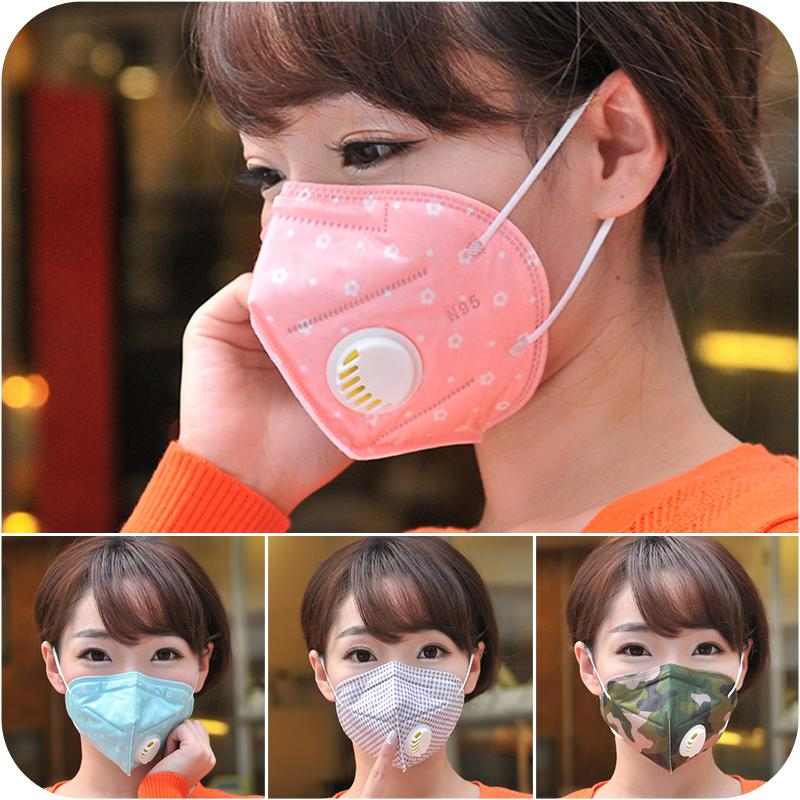OK: (200, 45, 602, 447), (583, 618, 731, 766), (316, 619, 463, 766), (53, 621, 195, 763)
